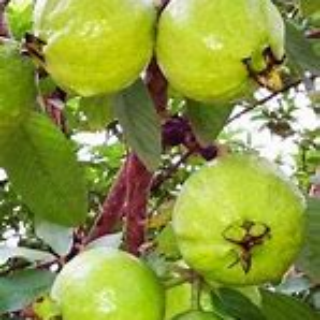oi: (175, 155, 306, 288), (158, 1, 295, 113)
